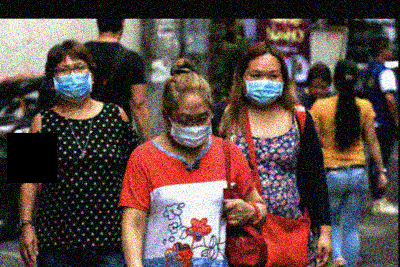with_mask: (167, 108, 212, 148), (241, 65, 283, 105), (51, 60, 91, 102)
without_mask: (309, 82, 329, 99)
